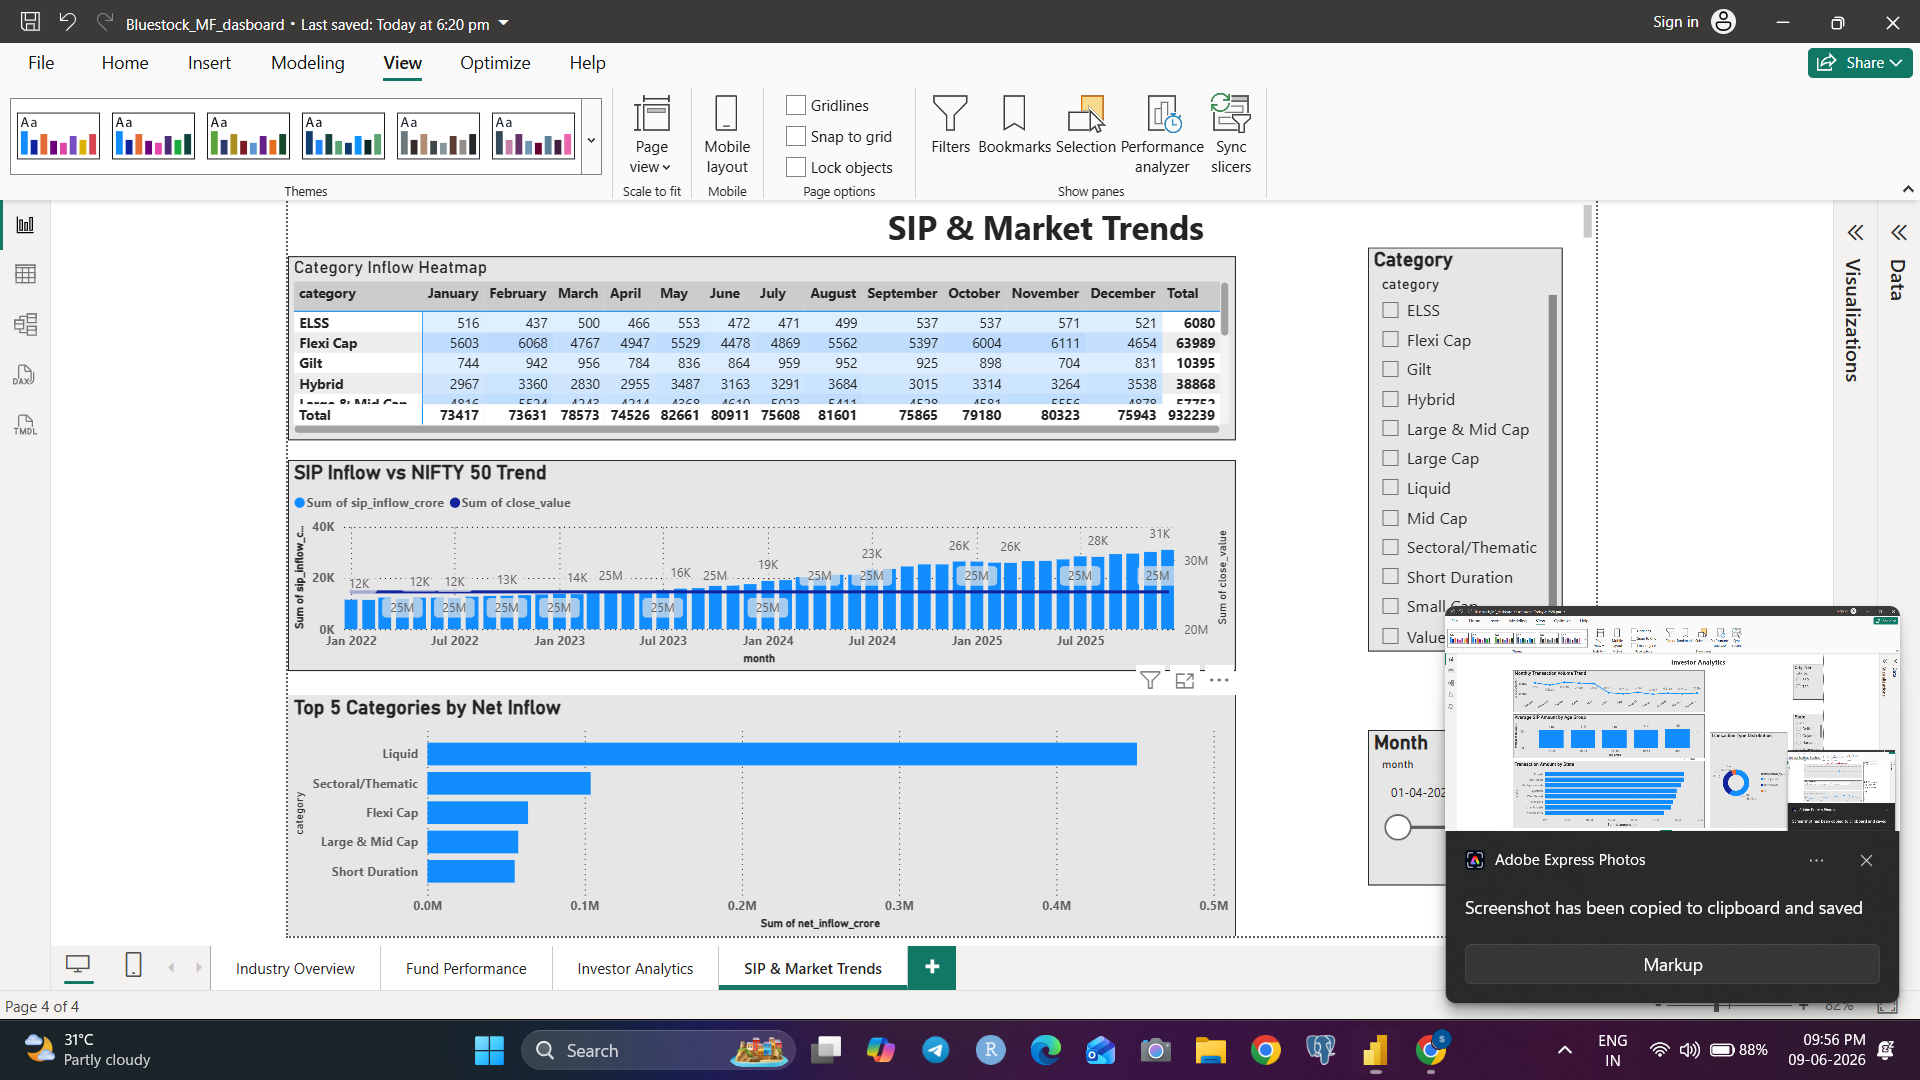

This screenshot's page, from the dashboard's own definition file:
{"tool":"powerbi","page":{"name":"SIP & Market Trends","canvas":[1280,720],"ordinal":3},"visuals":[{"type":"lineClusteredColumnComboChart","title":"SIP Inflow vs NIFTY 50 Trend","fields":{"Y":["Sum(04_monthly_sip_inflows.sip_inflow_crore)"],"Y2":["Sum(10_benchmark_indices.close_value)"],"Category":["04_monthly_sip_inflows.month"]},"box":[0,254.3,926.9,206.7],"z":0},{"type":"clusteredBarChart","title":"Top 5 Categories by Net Inflow","fields":{"Category":["05_category_inflows.category"],"Y":["Sum(05_category_inflows.net_inflow_crore)"]},"box":[0,484.2,926.9,236],"z":1000},{"type":"slicer","title":"Month","fields":{"Values":["05_category_inflows.month"]},"box":[1056.5,518.5,223.8,151.6],"z":2000},{"type":"slicer","title":"Category","fields":{"Values":["05_category_inflows.category"]},"box":[1056.5,46.5,190.8,395],"z":3000},{"type":"textbox","box":[208.6,0,1071.7,46.7],"z":4000},{"type":"pivotTable","title":"Category Inflow Heatmap","fields":{"Rows":["05_category_inflows.category"],"Values":["Sum(05_category_inflows.net_inflow_crore)"],"Columns":["05_category_inflows.month.Variation.Date Hierarchy.Month"]},"box":[0,55,926.9,179.8],"z":5000}]}

Visuals, with their boxes on the page's 1280x720 design canvas (x1, y1, x2, y2). These are canvas units, not pixel positions in the 1920x1080 screenshot, which may show the page scaled, cropped or inside an application window:
"SIP Inflow vs NIFTY 50 Trend" lineClusteredColumnComboChart: 0:254:927:461
"Top 5 Categories by Net Inflow" clusteredBarChart: 0:484:927:720
"Month" slicer: 1056:518:1280:670
"Category" slicer: 1056:46:1247:442
textbox: 209:0:1280:47
"Category Inflow Heatmap" pivotTable: 0:55:927:235
